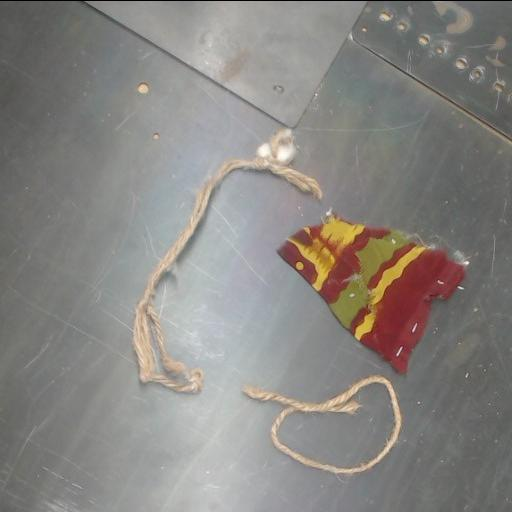cloth: (279, 216, 464, 372)
conveyor belt: (0, 1, 511, 512), (278, 383, 394, 467)
jute: (134, 129, 321, 392), (243, 375, 401, 474)
